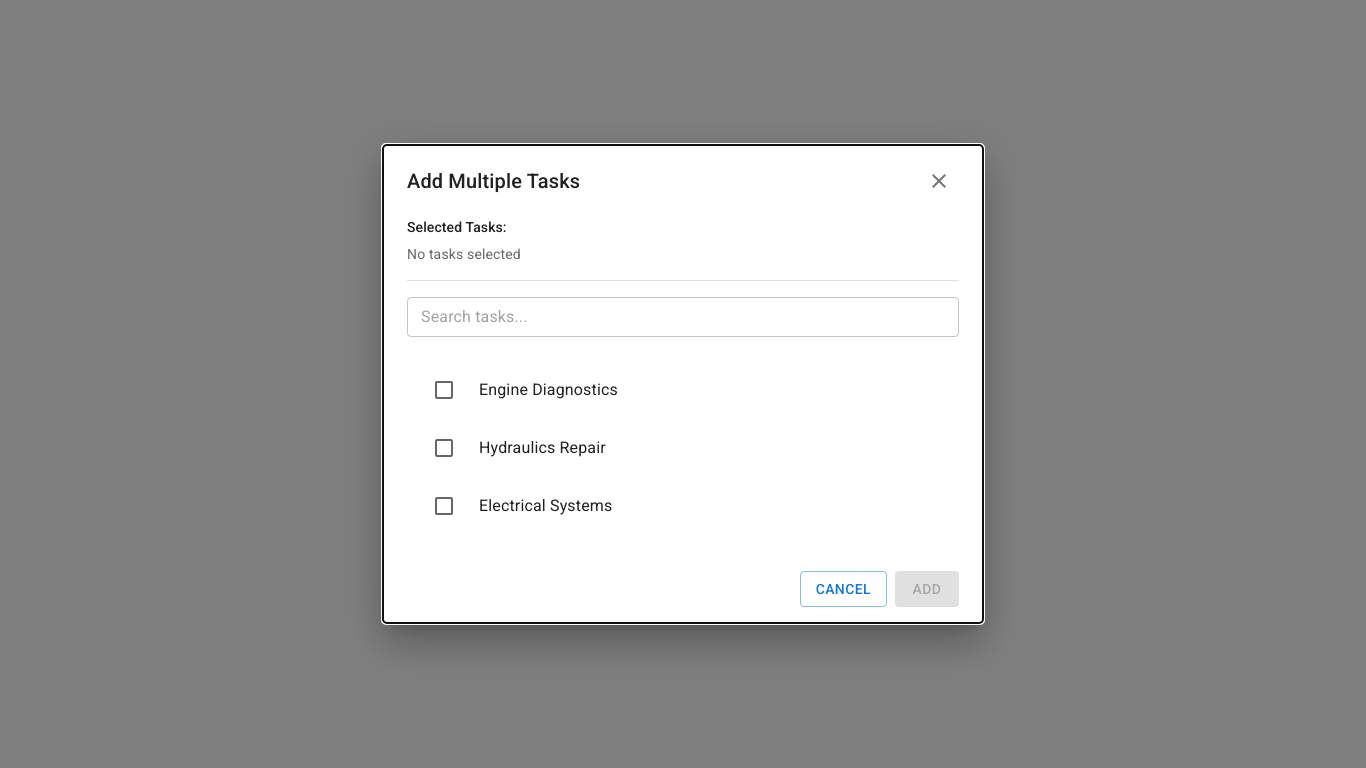
Scenario: AddMultipleTasksDialog › filters tasks based on search input
In the field with placeholder "Search tasks...": point(683, 317) [407,297,959,337], type "engine"
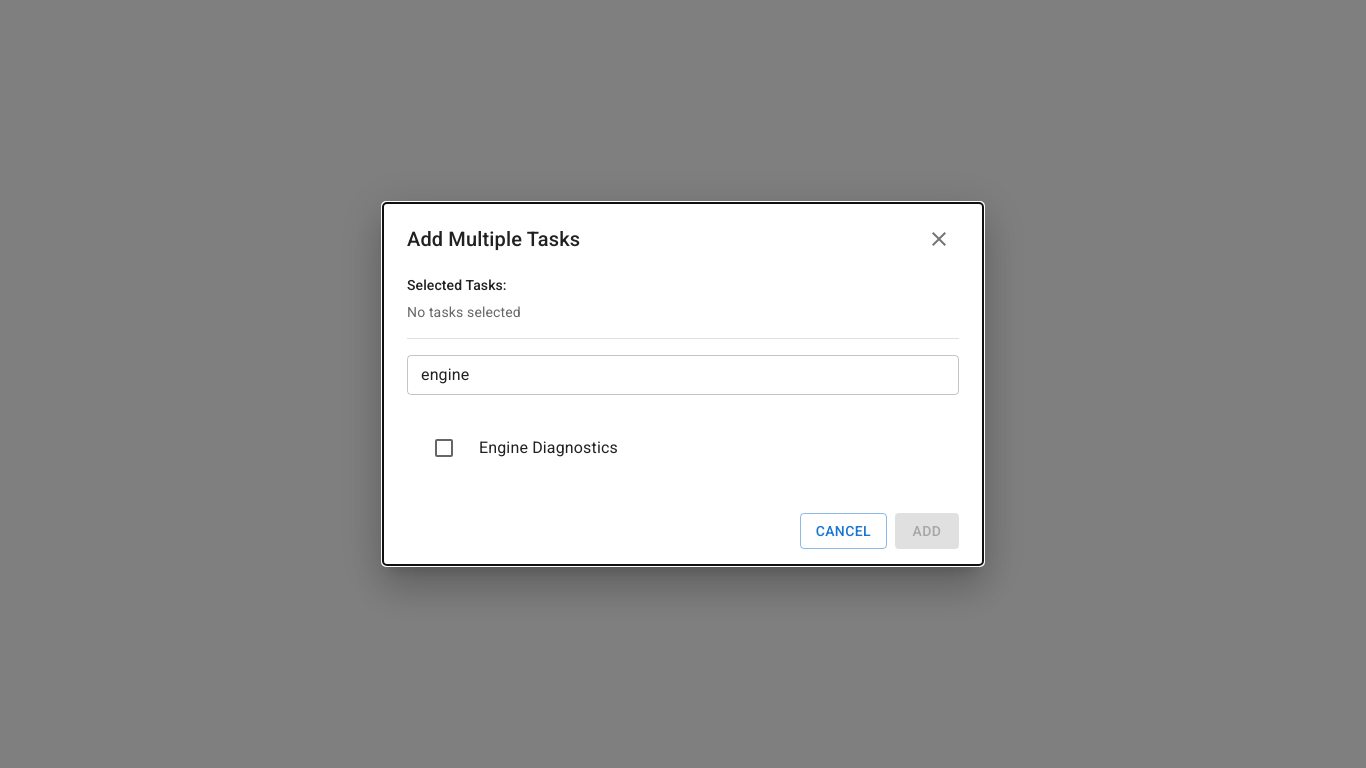
Expected: the text "Engine Diagnostics" is shown, [479,438,618,457]
Expected: the text "Hydraulics Repair" is gone
Expected: the text "Electrical Systems" is gone
